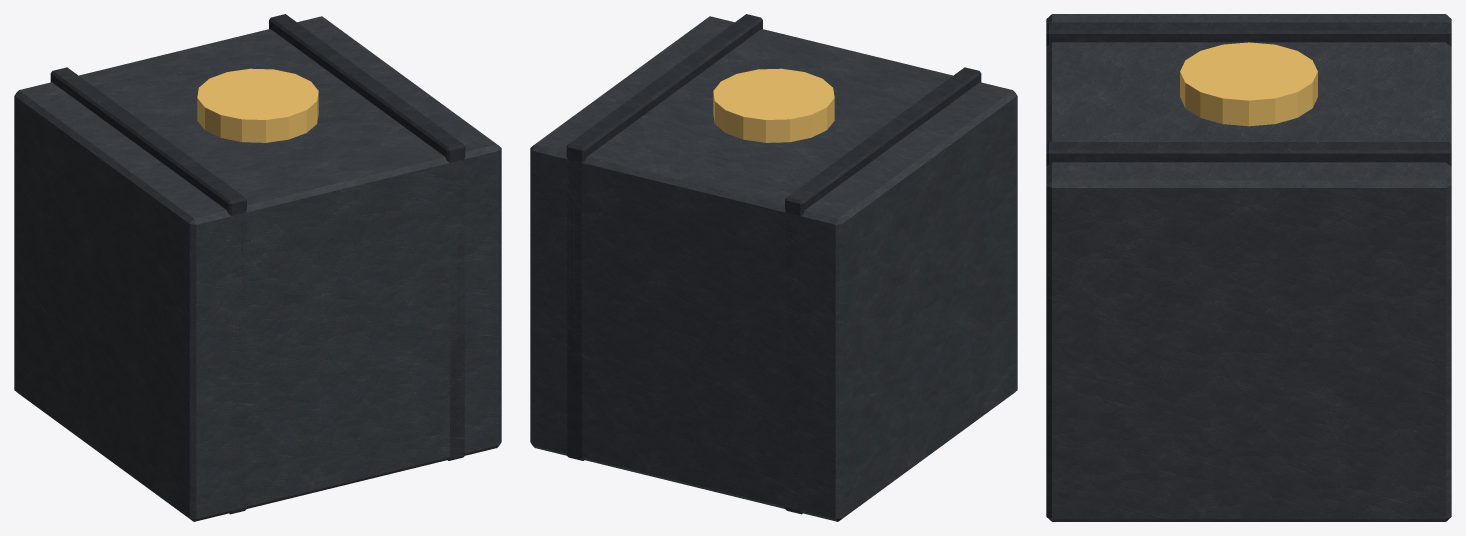
Rendered from train_water_tank.gltf.
The picture shows the model from 3 angles, left to right: view 1: azimuth 30°, elevation 25°; view 2: azimuth 150°, elevation 25°; view 3: azimuth 270°, elevation 25°; orthographic projection. The views are drawn at different scales.
Bounding box in the file's own units: 1 × 1 × 1.
Materials: 3 (2 with a texture image).
